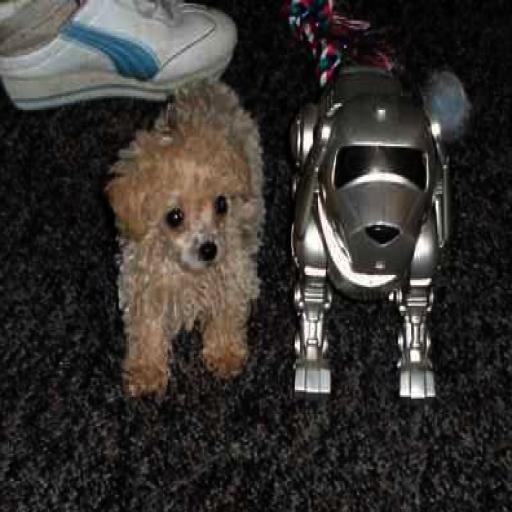dog_face: (109, 130, 248, 281)
